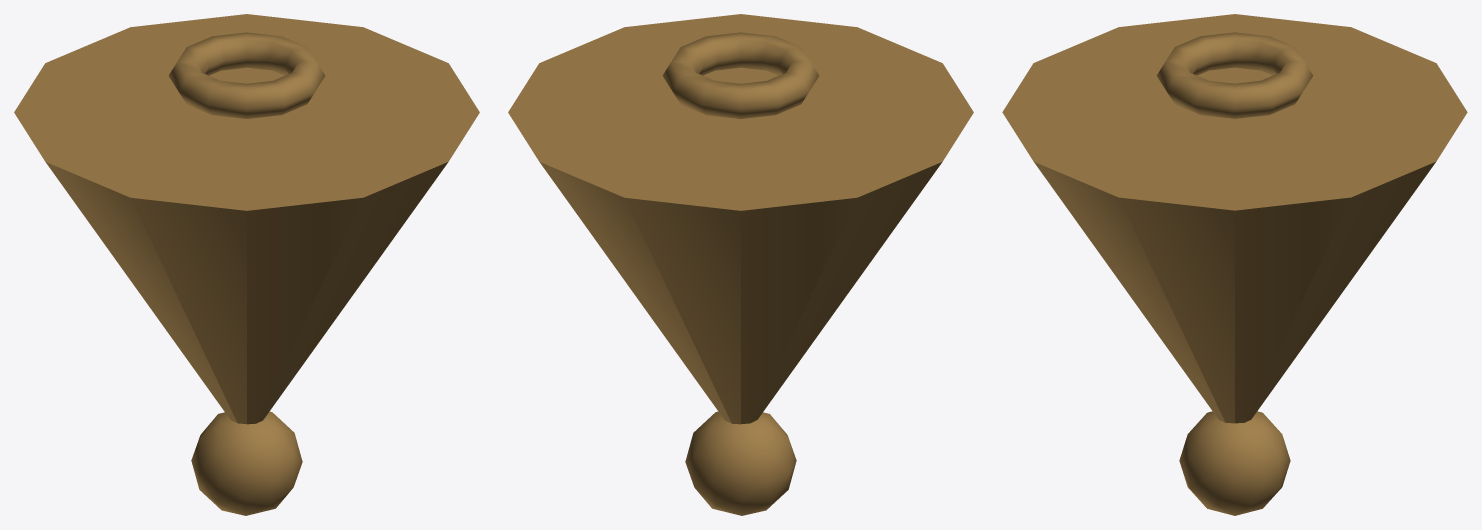
The model's file is bell.glb.
The picture shows the model from 3 angles, left to right: view 1: azimuth 30°, elevation 25°; view 2: azimuth 150°, elevation 25°; view 3: azimuth 270°, elevation 25°; orthographic projection.
Visible parts, largest first — view 1: bell; view 2: bell; view 3: bell.
Part boxes in pixels (left/top/right/bottom): bell: left=14, top=14, right=479, bottom=515; bell: left=508, top=14, right=973, bottom=515; bell: left=1002, top=14, right=1467, bottom=515.
Size of the model in its own units: 0.92 by 0.9803 by 0.92.
